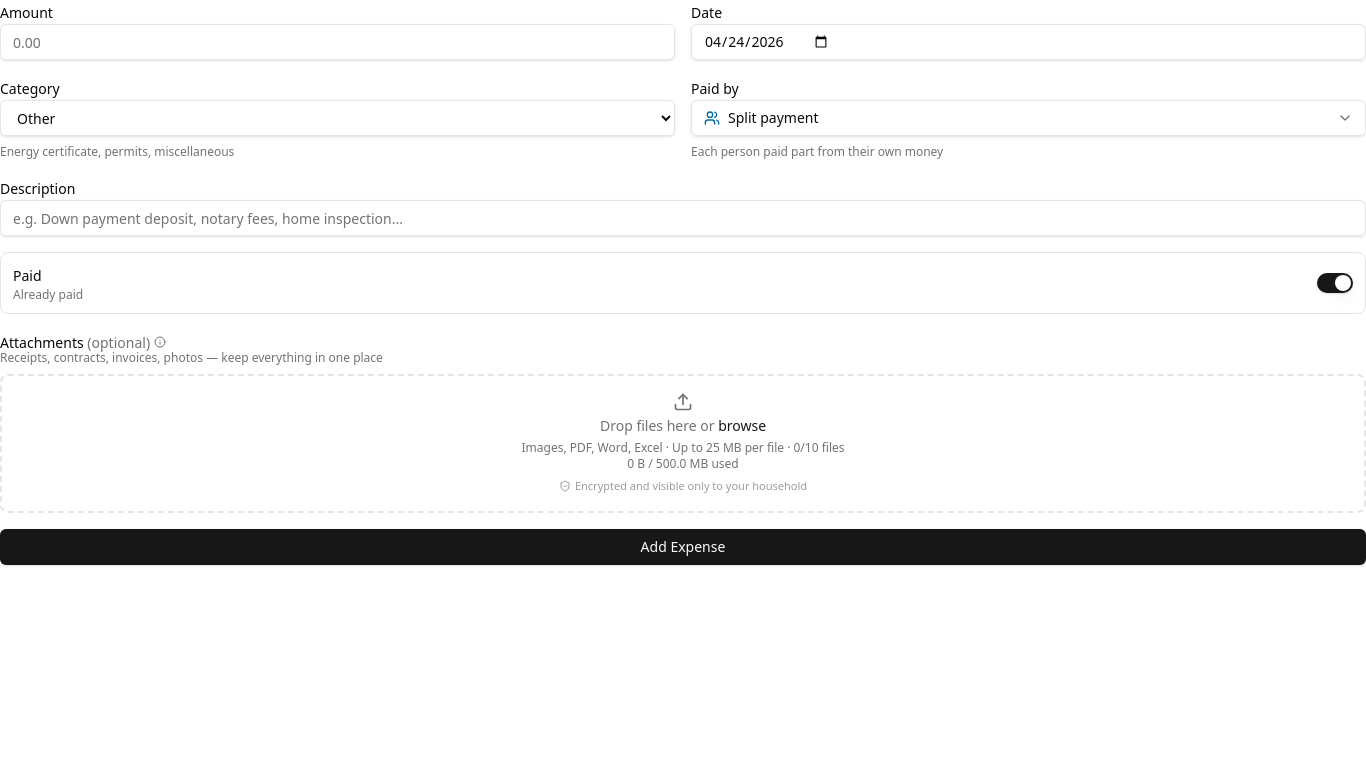
Scenario: ExpenseForm split chip › renders the split chip when payer is Split payment and amount is positive
Type "100" into the number field with id "amount" at point(338, 42), box [0, 24, 675, 60]
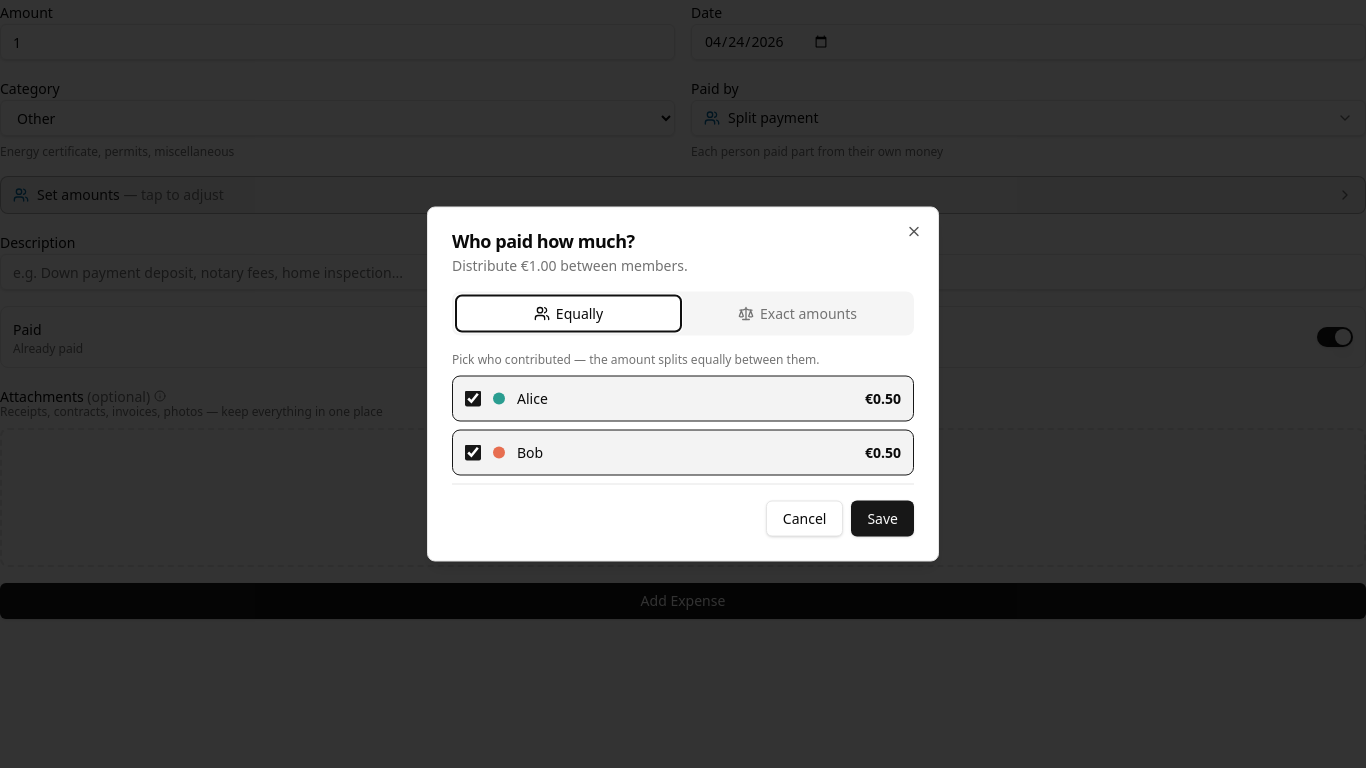
Expected: the text "— tap to adjust" is shown, [120, 185, 224, 204]
